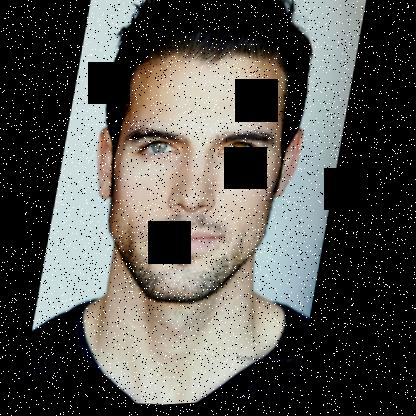Male: (73, 38, 319, 319)
